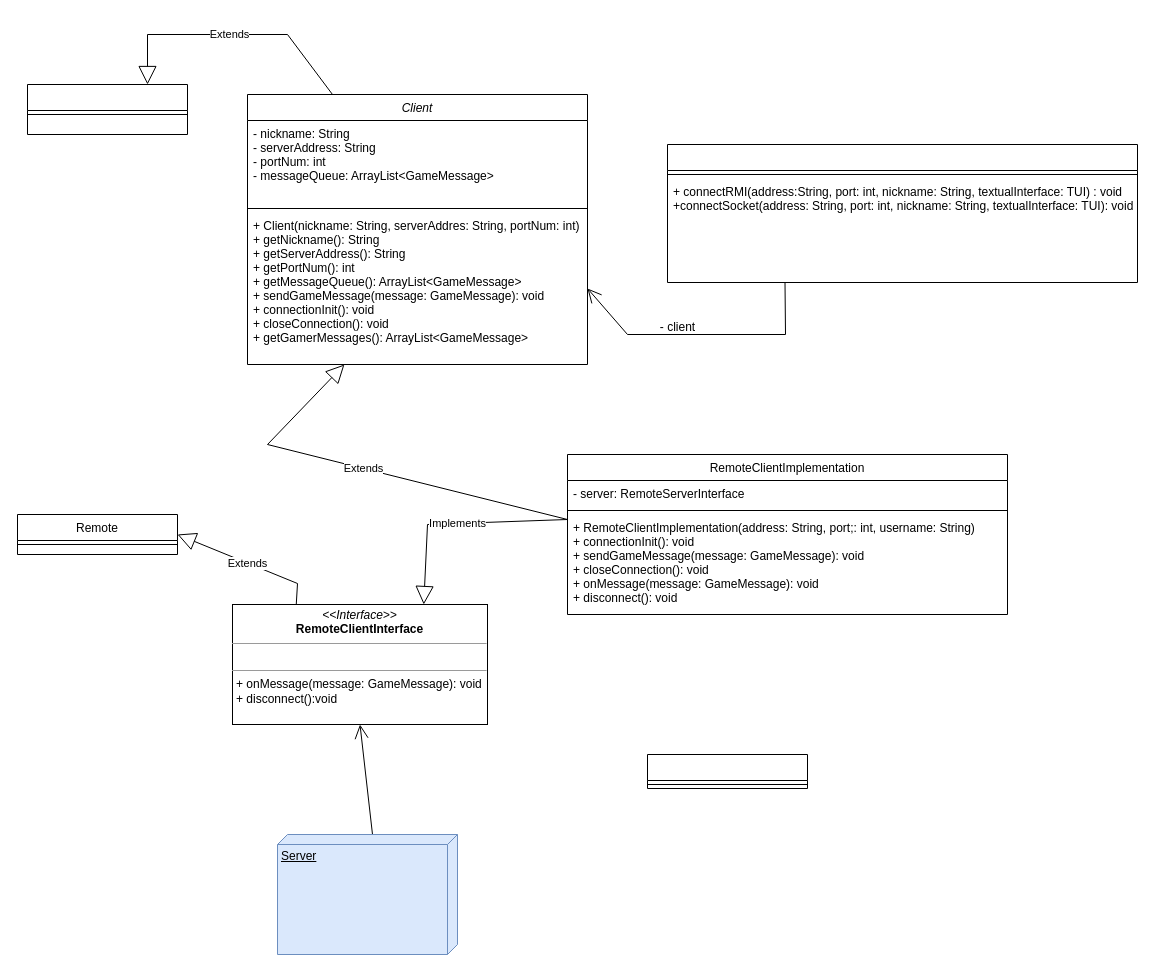
The diagram is 1155 pixels wide and 972 high, and some of its shapes have lost their labels. Each missing label, with the box of its shape:
GameMessage: (646, 754, 808, 788)
IOManager: (666, 144, 1138, 282)
UnicastRemoteObject: (26, 84, 188, 134)
